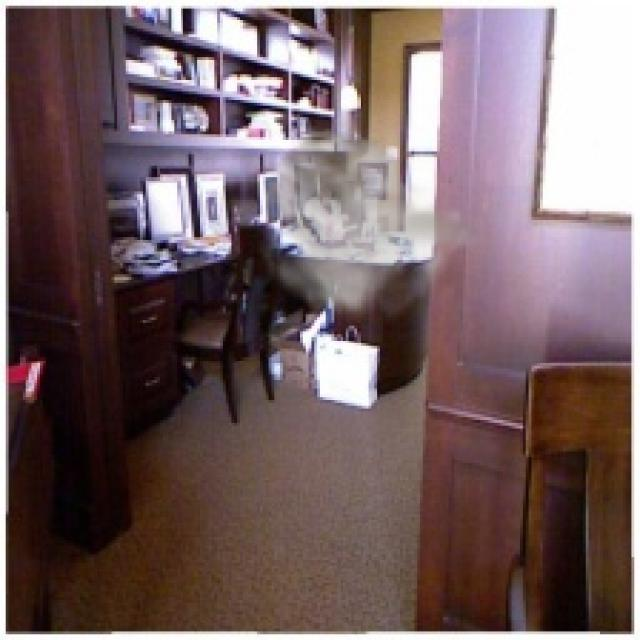Smoke: (246, 111, 488, 326)
